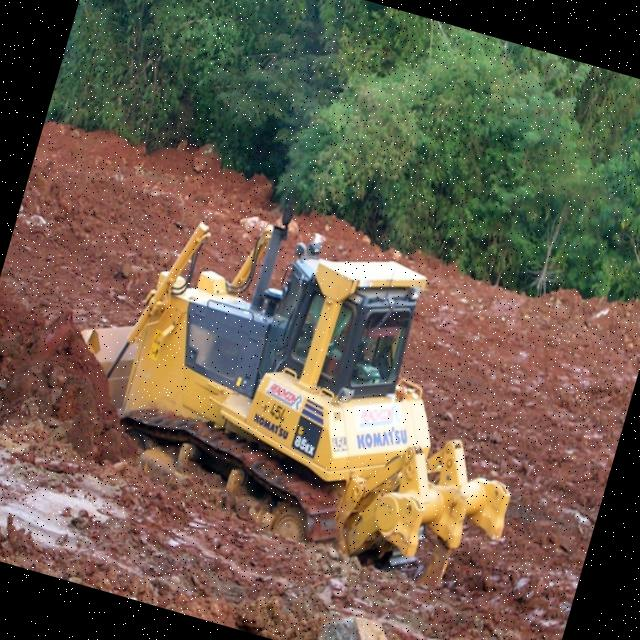Bulldozer: (22, 152, 606, 630)
